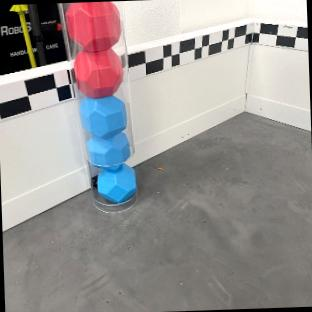V5_BLUE: (80, 95, 127, 136), (98, 163, 135, 202), (87, 132, 130, 165)
V5_RED: (65, 1, 121, 51), (73, 48, 124, 98)
